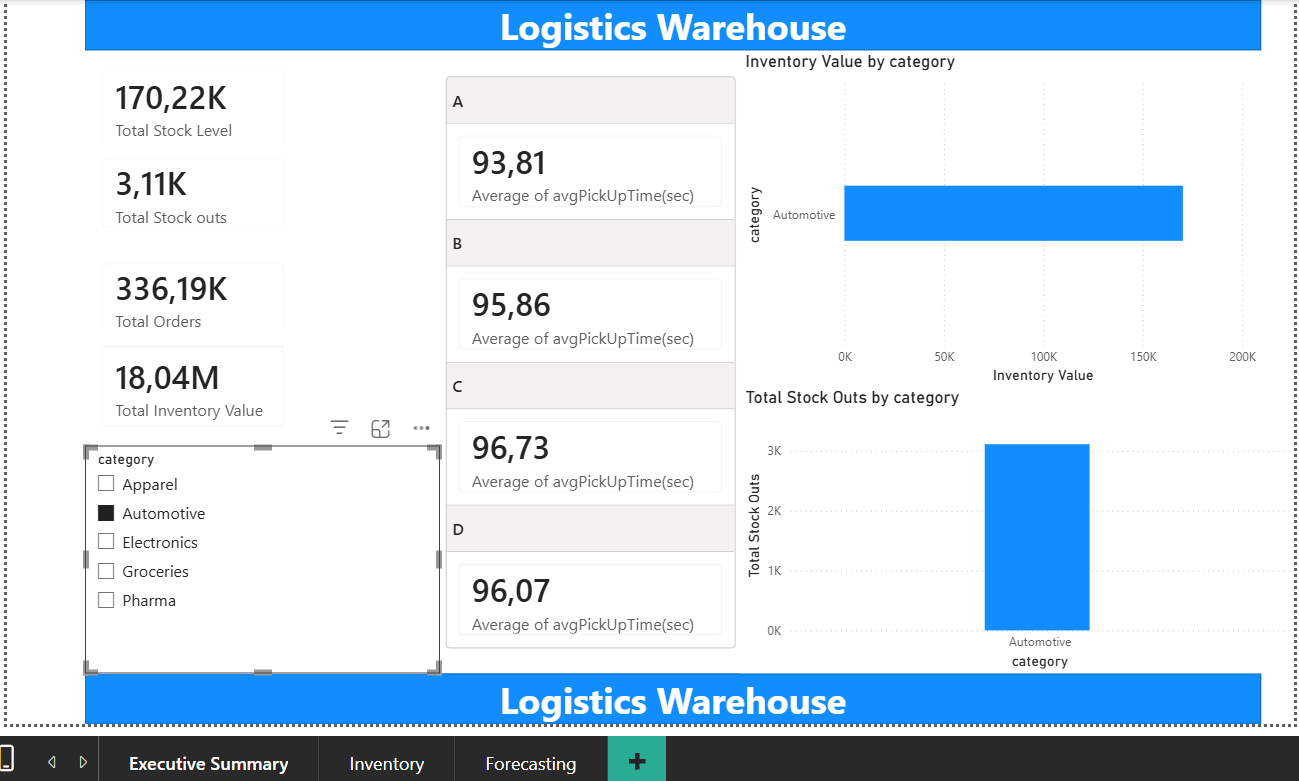

The dashboard page shown, as its layout file describes it:
{"tool":"powerbi","page":{"name":"Executive Summary","canvas":[1280,720],"ordinal":0},"visuals":[{"type":"cardVisual","fields":{"Data":["Sum(V_Warehouse_InventoryRisk.stock_level)"]},"box":[77,50,215.5,109.7],"z":0},{"type":"cardVisual","fields":{"Data":["Sum(V_Warehouse_StockOut.Total_stock_outs)"]},"box":[77,140.4,215.5,103.9],"z":1000},{"type":"cardVisual","fields":{"Data":["Sum(V_Warehouse_Revenue.total_orders)"]},"box":[77,244.3,215.5,102],"z":2000},{"type":"cardVisual","fields":{"Data":["Sum(V_Warehouse_Inv_Value.Inventory_value)"]},"box":[77,327.1,215.5,115.4],"z":3000},{"type":"cardVisual","fields":{"Data":["Avg(V_Warehouse_Efficiency.avgPickUpTime(sec))"],"Rows":["V_Warehouse_Efficiency.zone"]},"box":[430.9,50,298.2,619.5],"z":4000},{"type":"shape","box":[77,0,1169.7,50],"z":5000},{"type":"shape","box":[77,669.5,1169.7,50],"z":6000},{"type":"clusteredBarChart","fields":{"Y":["Sum(V_Warehouse_InventoryRisk.stock_level)"],"Category":["V_Warehouse_InventoryRisk.category"]},"box":[729.1,50,517.5,334.8],"z":7000},{"type":"columnChart","fields":{"Category":["V_Warehouse_StockOut.category"],"Y":["Sum(V_Warehouse_StockOut.Total_stock_outs)"]},"box":[729.1,384.8,550.2,284.7],"z":8000},{"type":"slicer","fields":{"Values":["V_Warehouse_StockOut.category"]},"box":[77,442.5,354,227],"z":9000}]}

Visuals, with their boxes on the page's 1280x720 design canvas (x1, y1, x2, y2). These are canvas units, not pixel positions in the 1299x781 screenshot, which may show the page scaled, cropped or inside an application window:
cardVisual - Sum(V_Warehouse_InventoryRisk.stock_level): (77,50,292,160)
cardVisual - Sum(V_Warehouse_StockOut.Total_stock_outs): (77,140,292,244)
cardVisual - Sum(V_Warehouse_Revenue.total_orders): (77,244,292,346)
cardVisual - Sum(V_Warehouse_Inv_Value.Inventory_value): (77,327,292,442)
cardVisual - Avg(V_Warehouse_Efficiency.avgPickUpTime(sec)) x V_Warehouse_Efficiency.zone: (431,50,729,670)
shape: (77,0,1247,50)
shape: (77,670,1247,720)
clusteredBarChart - Sum(V_Warehouse_InventoryRisk.stock_level) x V_Warehouse_InventoryRisk.category: (729,50,1247,385)
columnChart - V_Warehouse_StockOut.category x Sum(V_Warehouse_StockOut.Total_stock_outs): (729,385,1279,670)
slicer - V_Warehouse_StockOut.category: (77,442,431,670)
